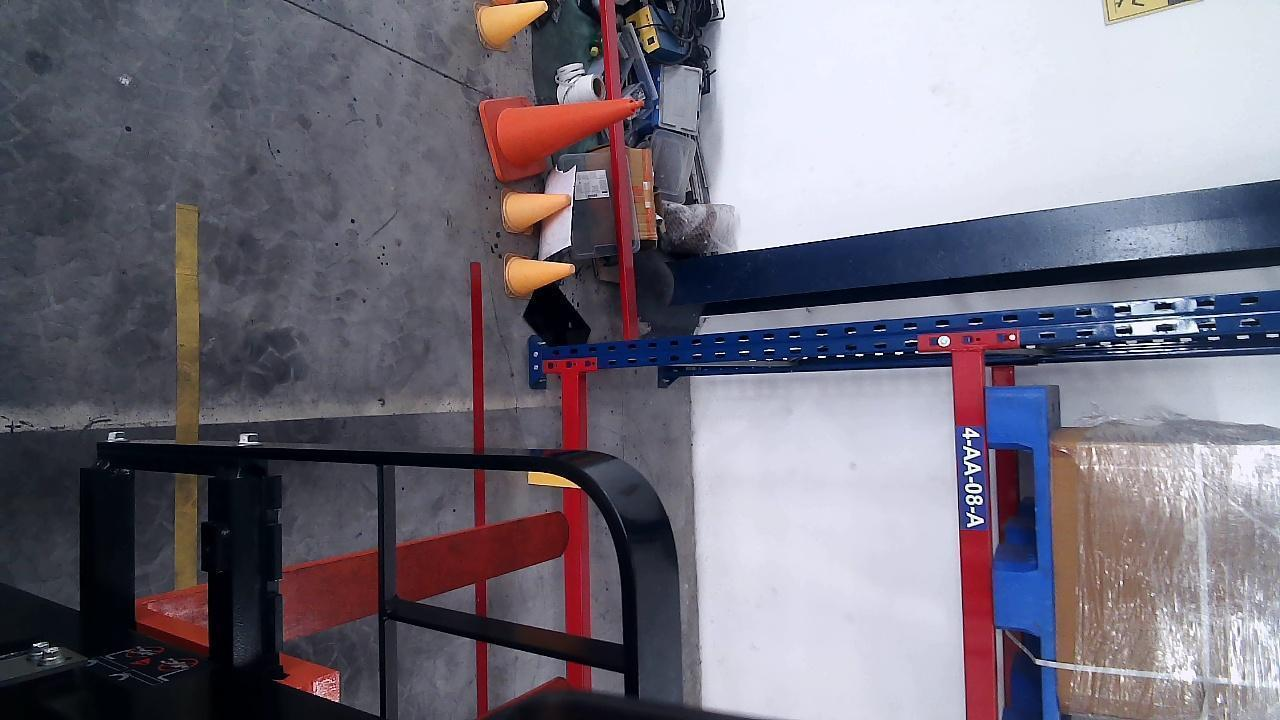red_line: (470, 260, 490, 720)
yellow_line: (178, 201, 200, 442)
